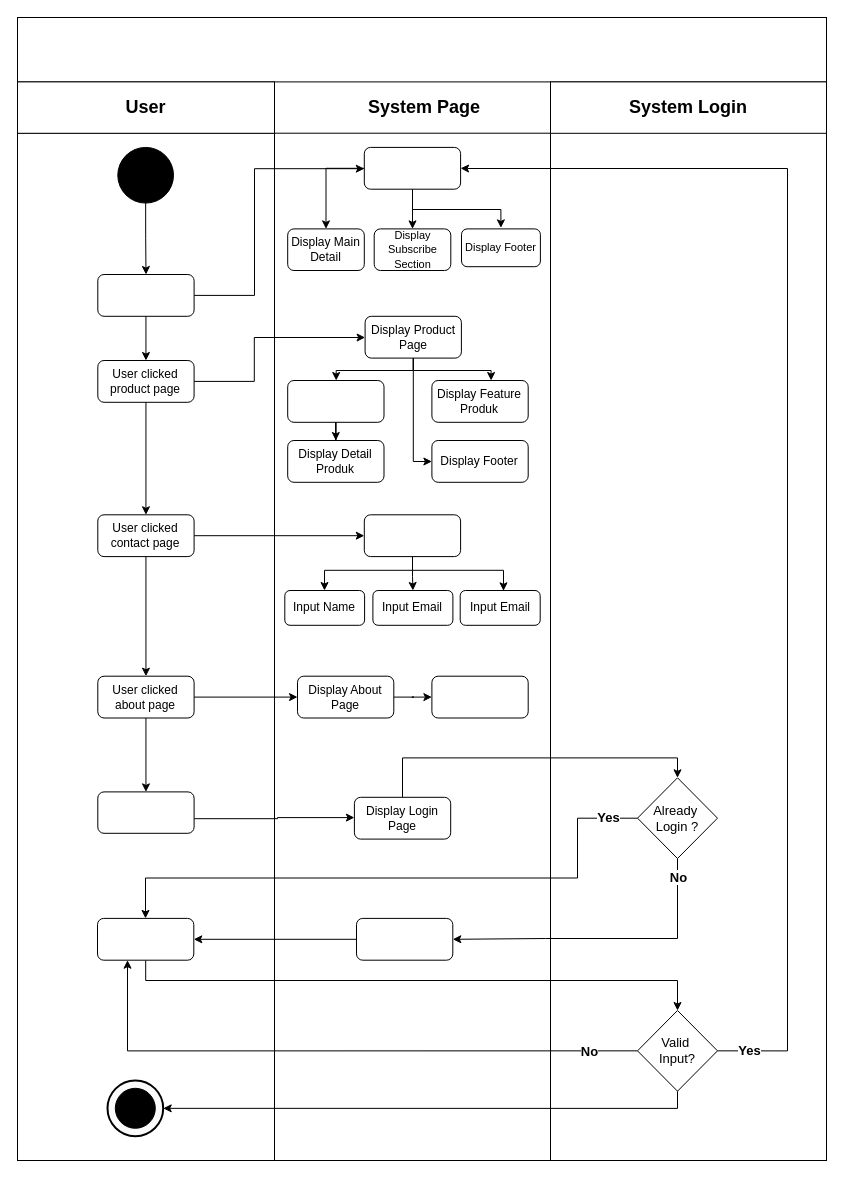
The diagram is 844 pixels wide and 1178 high, and some of its shapes have lost their labels. Each missing label, with the centre of its shape:
"Activity Diagram" goes at (x=421, y=49).
"Display Contact Page" goes at (x=412, y=535).
"Display Detail About" goes at (x=479, y=696).
"Display Homepage" goes at (x=412, y=167).
"Display Kategori Produk" goes at (x=335, y=401).
"Display Sign up Page & Fill Data" goes at (x=404, y=938).
"Input Email & Password" goes at (x=145, y=938).
"User clicked Icon Login" goes at (x=145, y=812).
"Website Access" goes at (x=145, y=295).
